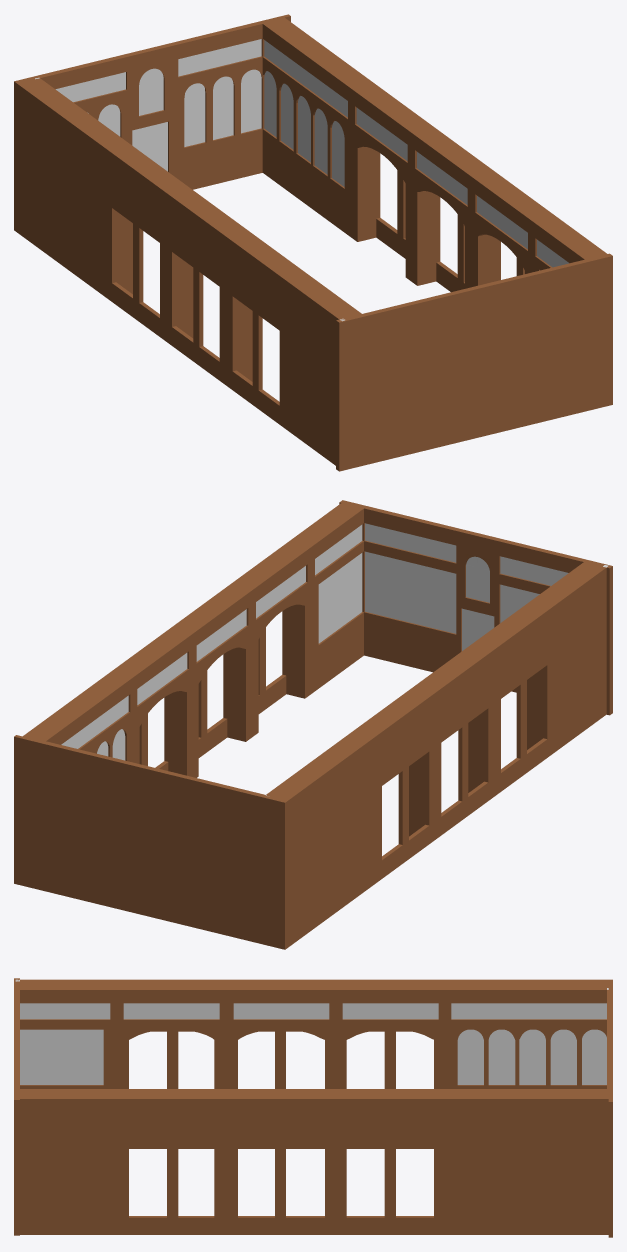
File: Propositionssaal.glb
The picture shows the model from 3 angles, top to bottom: view 1: azimuth 30°, elevation 25°; view 2: azimuth 150°, elevation 25°; view 3: azimuth 270°, elevation 25°; orthographic projection. The views are drawn at different scales.
Visible parts, largest first — view 1: wall; view 2: wall; view 3: wall.
Boxes of the visible parts, box(x1,y1,x2,y2) form: wall: box(14, 14, 612, 471); wall: box(14, 500, 612, 949); wall: box(14, 978, 612, 1237).
Bounding box in the file's own units: 13.69 × 7.01 × 28.04.
